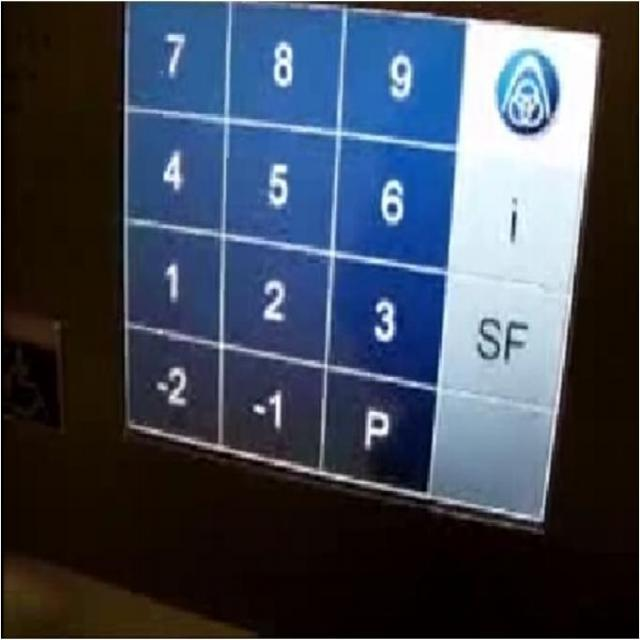-1: (217, 336, 326, 480)
-2: (124, 321, 221, 452)
1: (124, 212, 222, 348)
2: (222, 225, 328, 372)
3: (324, 253, 446, 395)
4: (120, 105, 223, 241)
5: (220, 118, 338, 253)
6: (329, 128, 460, 271)
7: (126, 0, 226, 114)
8: (228, 0, 339, 127)
9: (335, 0, 467, 150)
P: (322, 358, 442, 498)
